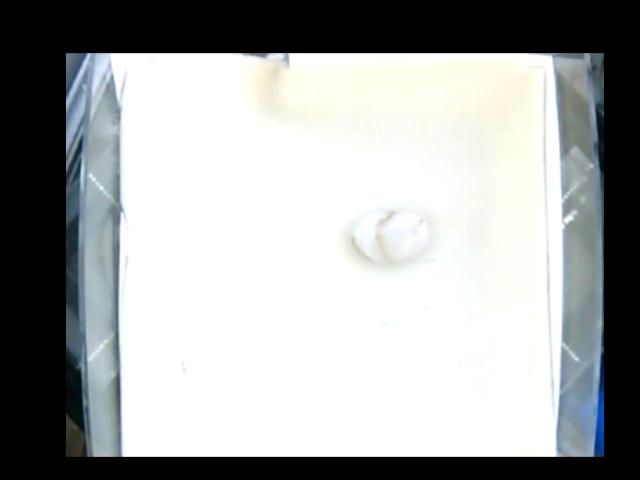Pebble: (349, 209, 430, 262)
